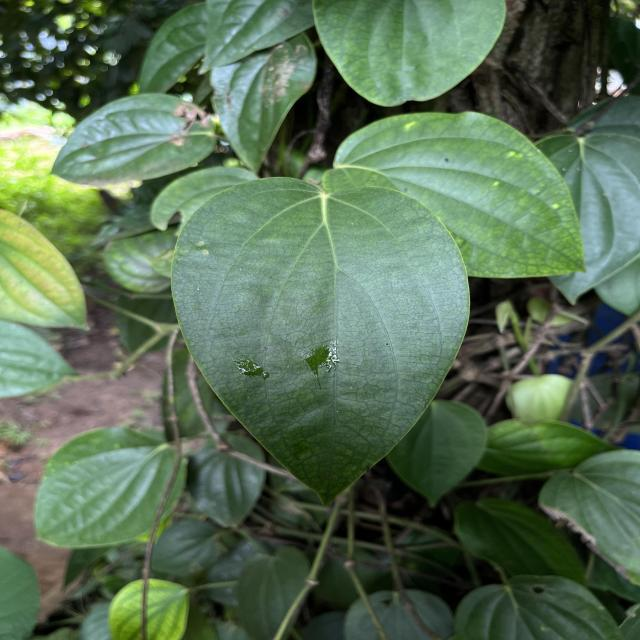Piper nigrum: (169, 174, 473, 508)
